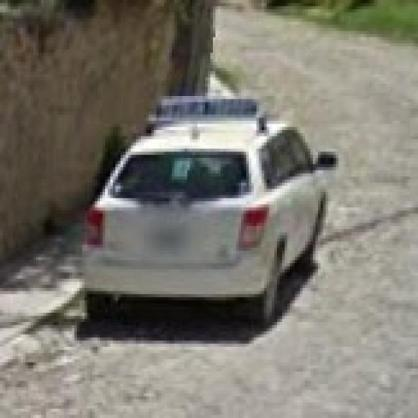car: (79, 98, 335, 334)
